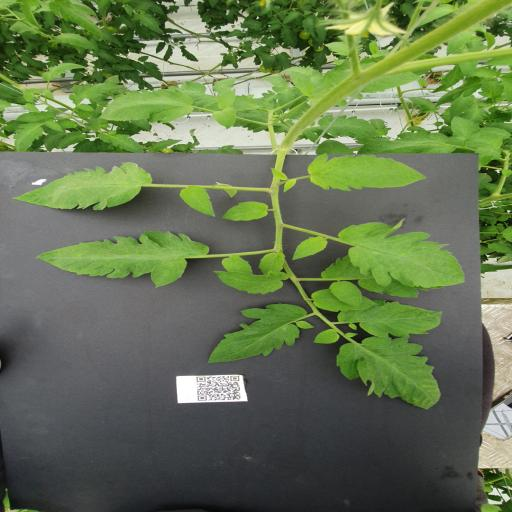Healthy: (36, 230, 210, 289), (335, 217, 471, 288), (334, 336, 442, 410), (12, 162, 156, 210), (206, 303, 307, 365), (302, 153, 428, 190), (336, 298, 444, 340), (98, 89, 195, 124), (358, 128, 456, 154), (212, 269, 289, 295), (316, 114, 379, 139), (435, 75, 482, 108), (179, 186, 217, 217), (97, 130, 146, 153), (222, 201, 270, 221), (11, 123, 44, 152), (292, 235, 329, 260), (330, 280, 364, 307), (40, 62, 88, 81), (449, 114, 481, 142), (54, 32, 96, 50), (258, 252, 286, 274), (211, 107, 237, 130), (222, 256, 254, 274), (57, 132, 86, 150), (146, 138, 182, 152), (312, 328, 340, 345), (213, 76, 236, 94), (216, 88, 236, 108), (295, 77, 315, 97), (15, 111, 44, 123), (487, 242, 512, 255), (45, 120, 65, 132)
